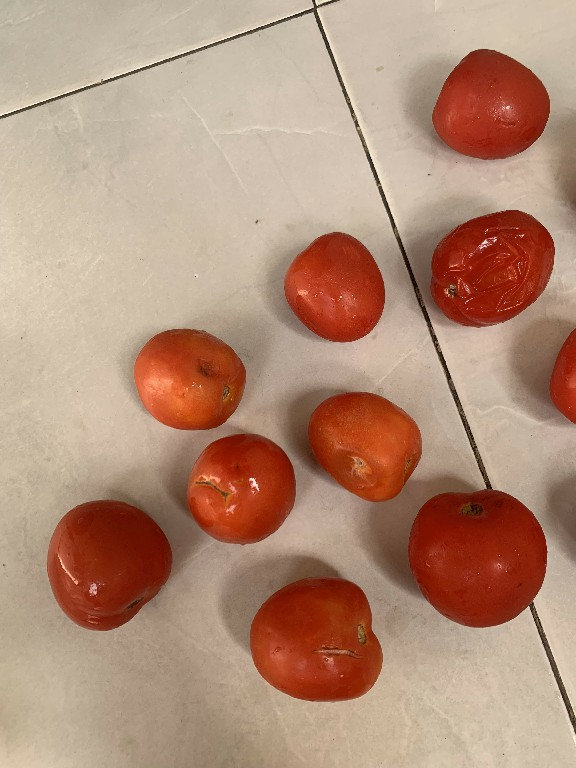NG: (246, 570, 387, 705), (425, 207, 563, 331), (301, 385, 423, 506), (127, 321, 251, 429), (184, 428, 298, 543)
OK: (406, 487, 548, 629), (42, 494, 181, 637), (426, 44, 550, 166), (278, 227, 390, 346)
